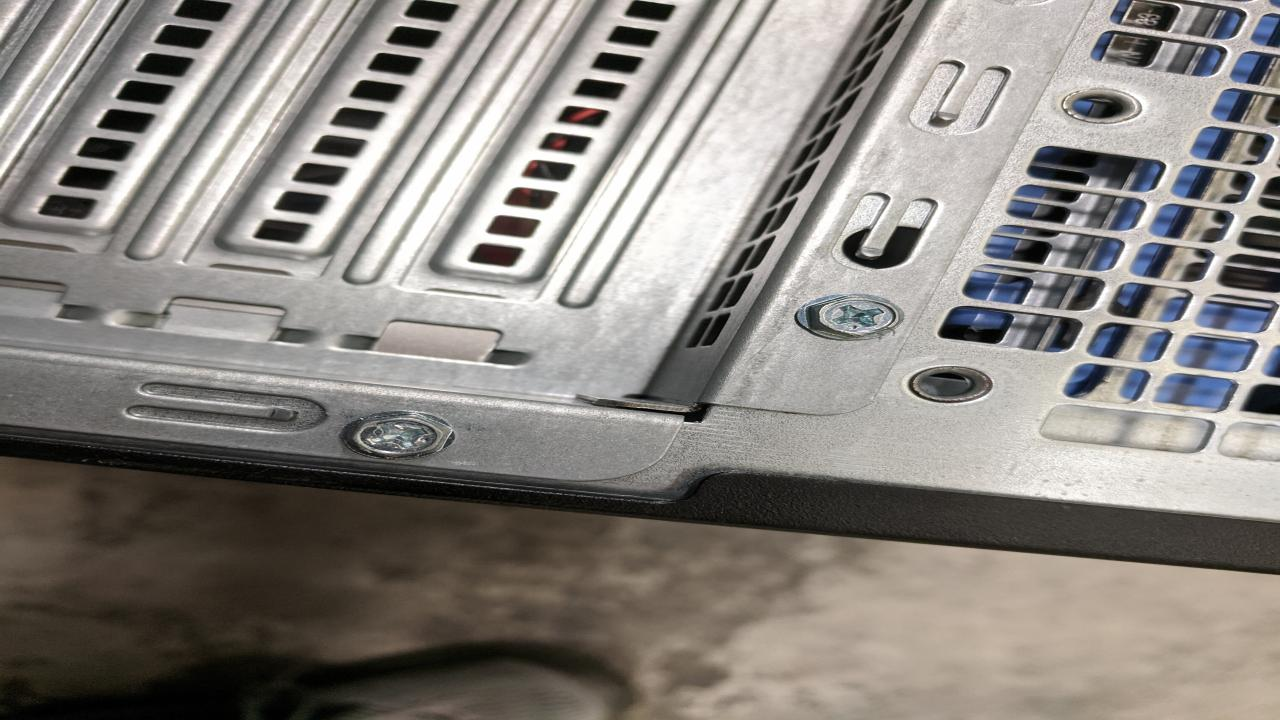CRS: (798, 293, 904, 339), (346, 412, 454, 457)
